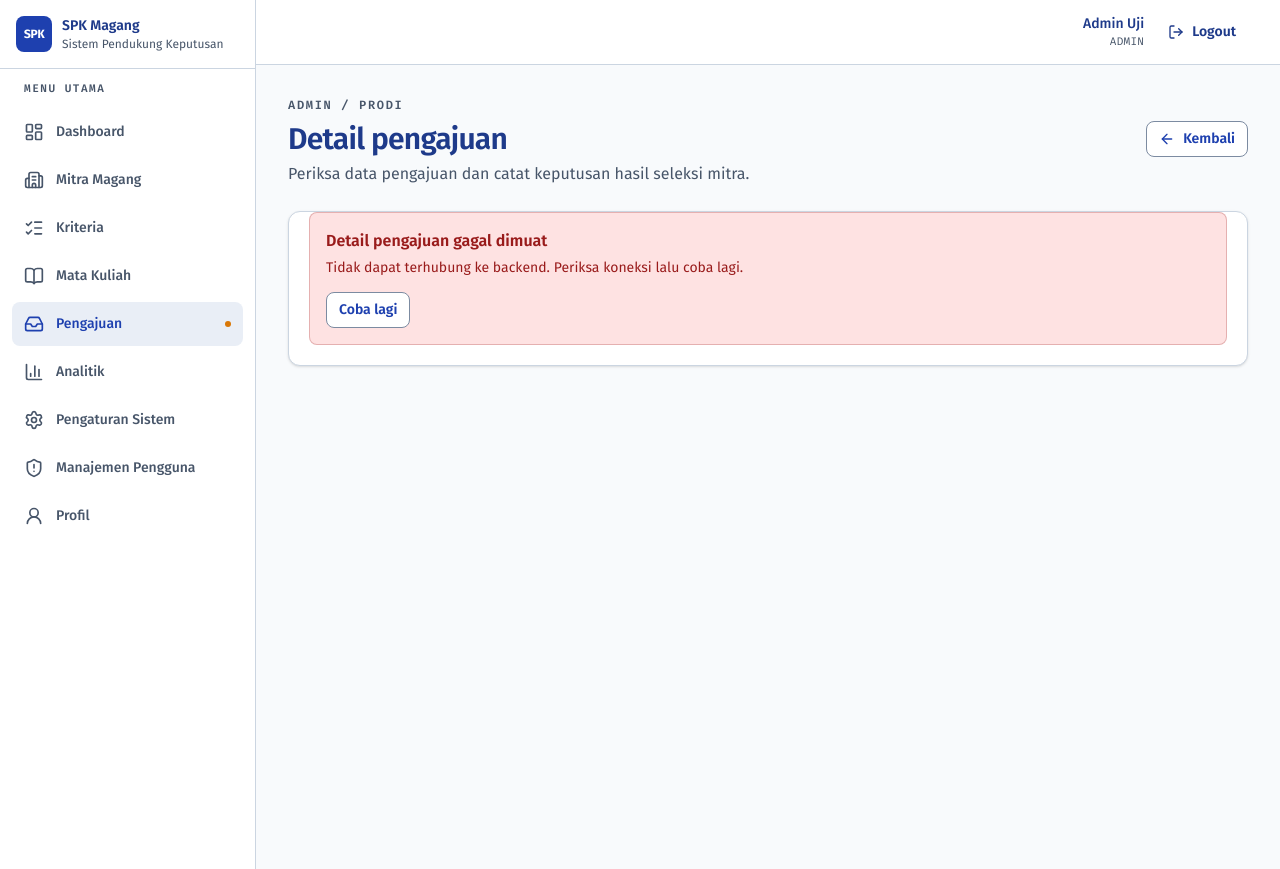
it: AdminApplicationDetailPage › dapat memuat ulang detail setelah gagal
expect the text "Detail pengajuan gagal dimuat" is shown: met, box [326,231,547,250]
Click the button "Coba lagi": (368, 310) [326,292,410,328]
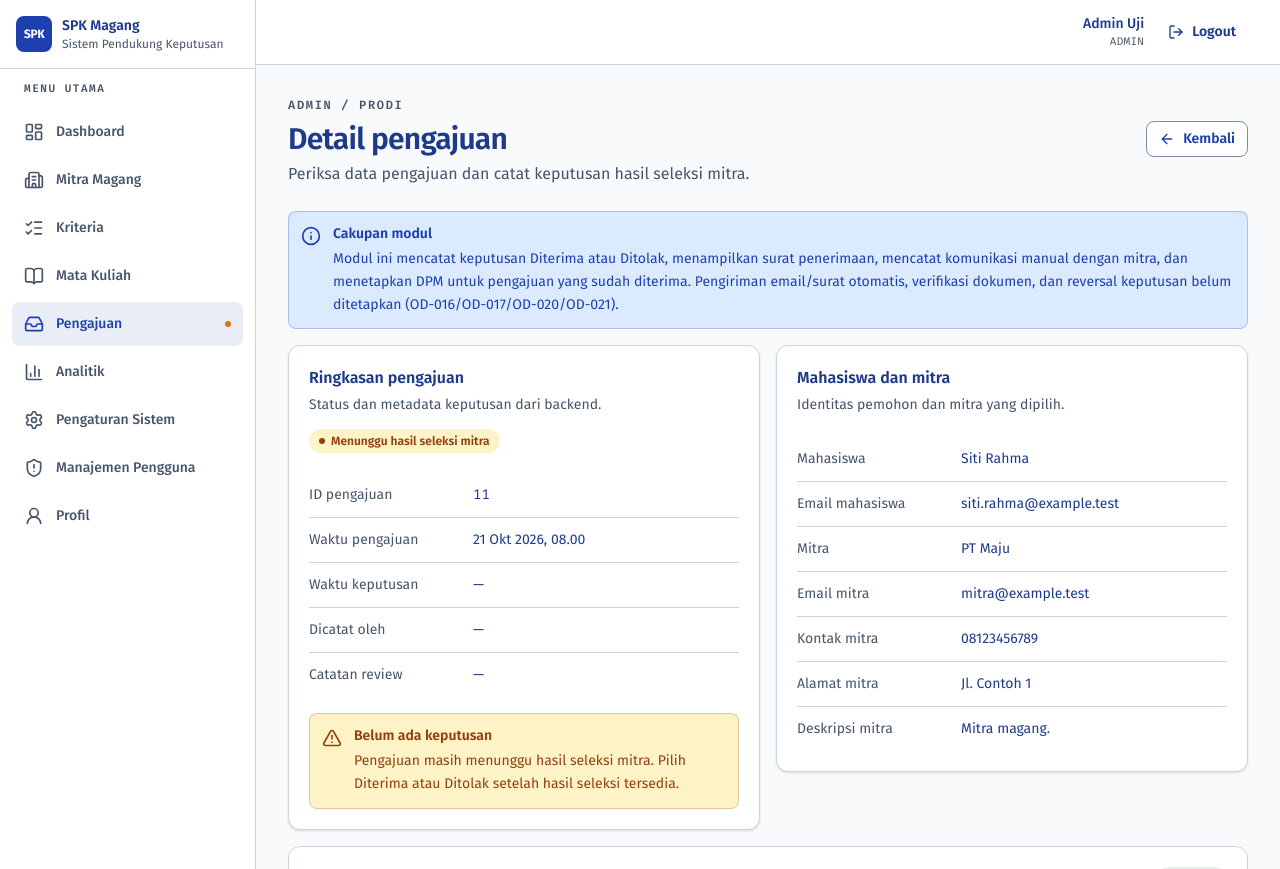
expect the text "Siti Rahma" is shown: met, box [961,450,1029,467]
